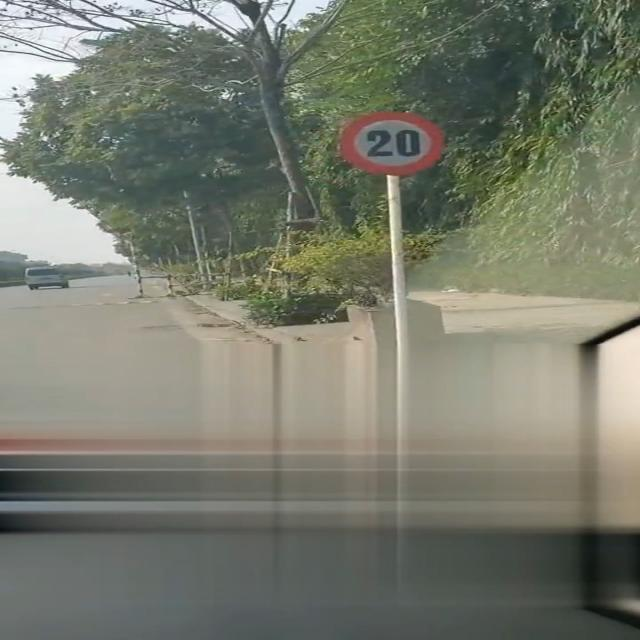127-toc-do-toi-da-20: (341, 113, 443, 175)
